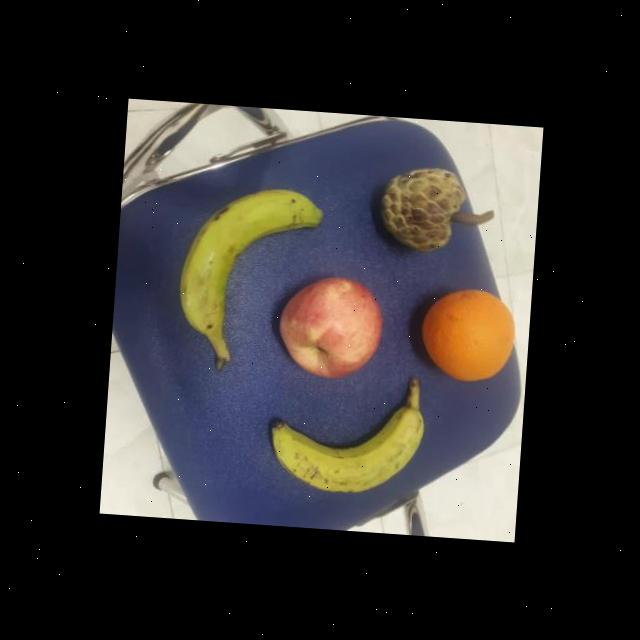Sakya fruit: (370, 161, 470, 260)
apple: (266, 264, 390, 386)
banana: (176, 175, 328, 376), (263, 368, 432, 502)
orange: (415, 284, 518, 387)
